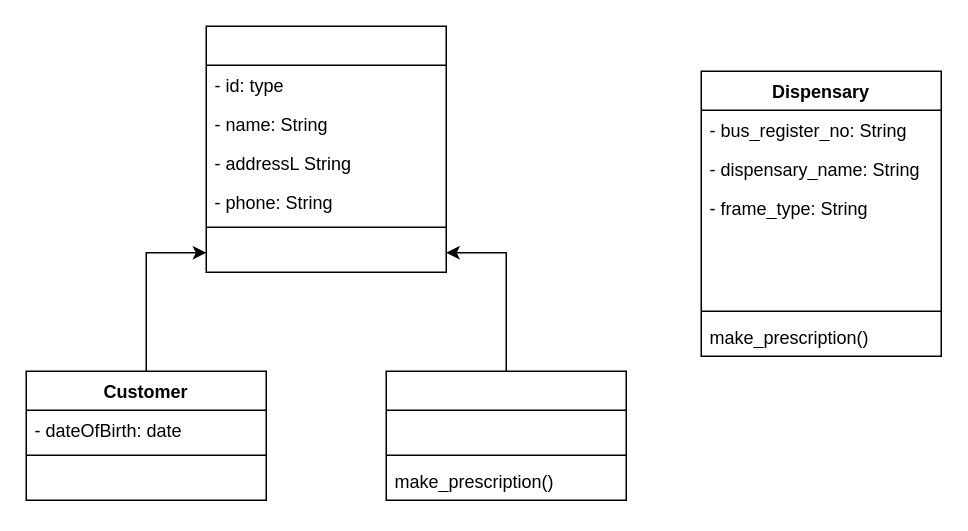
This 968x531 diagram has some shape labels left out. Here are the shapes that lost their labels. From the top down, the box of each, then its label:
(205, 25, 446, 272): Person
(385, 370, 626, 500): Optician
